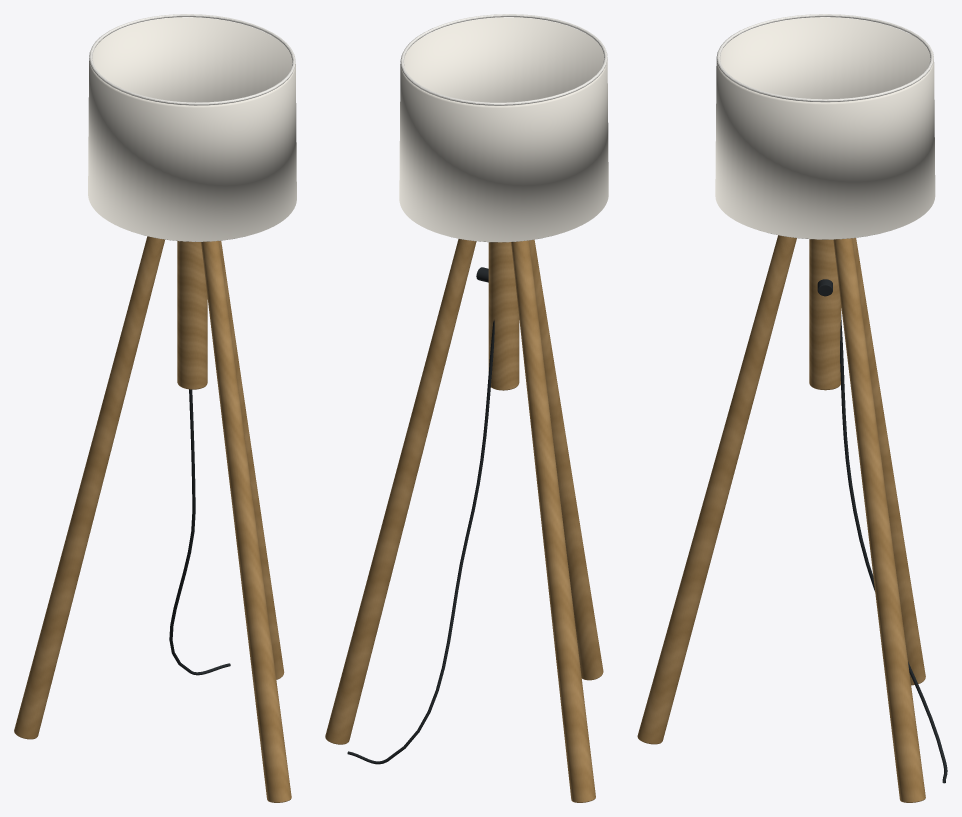
Rendered from floorLamp.glb.
3 views of the same model, side by side, from view 1: azimuth 30°, elevation 25°; view 2: azimuth 150°, elevation 25°; view 3: azimuth 270°, elevation 25° (orthographic).
Visible parts, largest first — view 1: Hollow_fabric_shade, Ash_tripod_leg.002, Ash_tripod_leg.001, Height_adjustable_ash_column, Ash_tripod_leg, Shade_upper_wire_hem, Short_staging_cable; view 2: Hollow_fabric_shade, Ash_tripod_leg.001, Ash_tripod_leg, Ash_tripod_leg.002, Height_adjustable_ash_column, Short_staging_cable, Shade_upper_wire_hem; view 3: Hollow_fabric_shade, Ash_tripod_leg, Ash_tripod_leg.002, Ash_tripod_leg.001, Height_adjustable_ash_column, Shade_upper_wire_hem, Short_staging_cable.
Boxes of the visible parts, x1,y1,x2,y2 form: Hollow_fabric_shade: [88, 17, 296, 241]; Ash_tripod_leg.002: [201, 241, 291, 802]; Ash_tripod_leg.001: [14, 236, 164, 739]; Height_adjustable_ash_column: [177, 241, 207, 389]; Ash_tripod_leg: [219, 240, 284, 679]; Shade_upper_wire_hem: [89, 14, 295, 105]; Short_staging_cable: [169, 389, 230, 675]; Hollow_fabric_shade: [399, 17, 608, 242]; Ash_tripod_leg.001: [511, 240, 595, 802]; Ash_tripod_leg: [325, 239, 476, 744]; Ash_tripod_leg.002: [529, 239, 603, 680]; Height_adjustable_ash_column: [488, 242, 519, 390]; Short_staging_cable: [347, 320, 494, 764]; Shade_upper_wire_hem: [400, 14, 607, 105]; Hollow_fabric_shade: [715, 17, 935, 239]; Ash_tripod_leg: [833, 238, 925, 802]; Ash_tripod_leg.002: [637, 235, 796, 744]; Ash_tripod_leg.001: [852, 238, 925, 685]; Height_adjustable_ash_column: [809, 239, 841, 390]; Shade_upper_wire_hem: [716, 14, 933, 102]; Short_staging_cable: [840, 315, 947, 783].
Bounding box in the file's own units: 0.62 × 1.51 × 0.62.
Materials: 5 (1 with a texture image).
